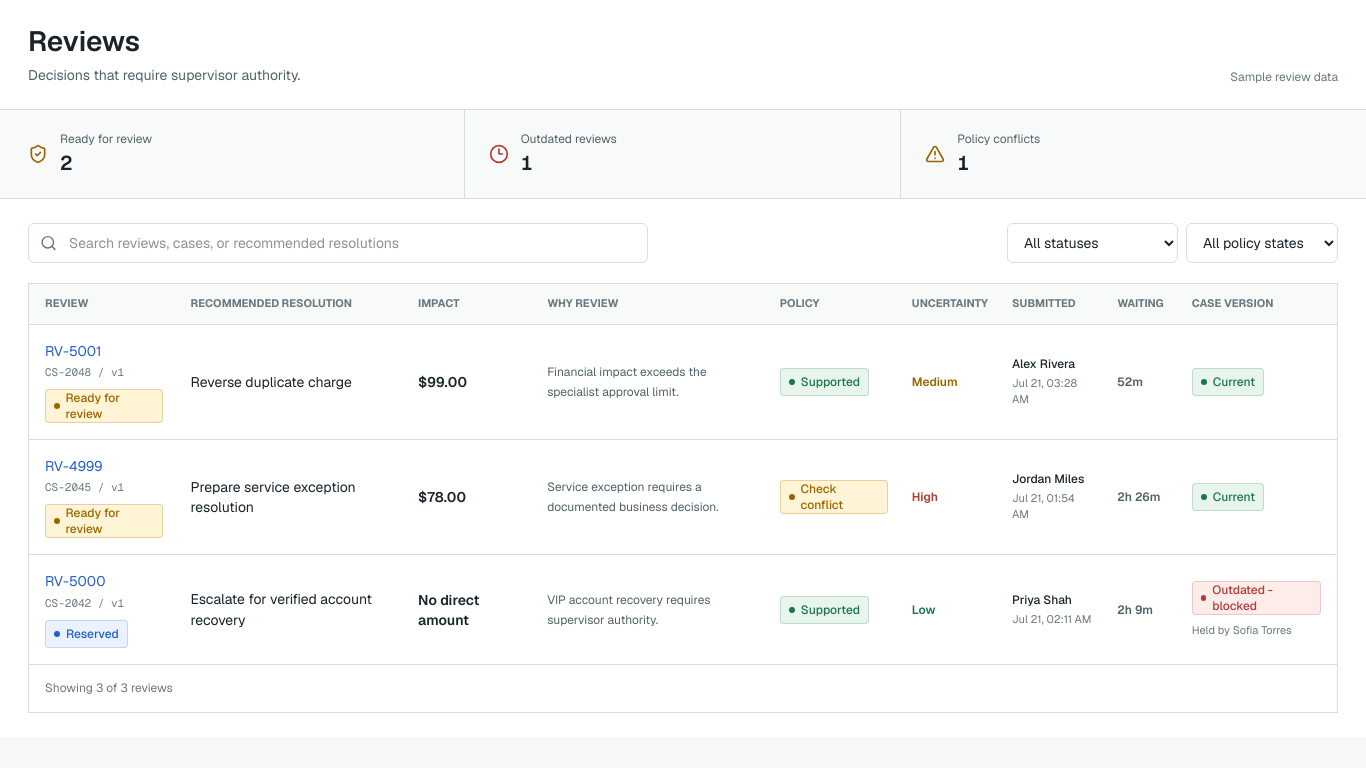
Scenario: ReviewQueue › supports review-specific search and policy filtering
The width and height of the screenshot is (1366, 768).
Select "Possible conflict" in the 2nd dropdown named "Filter policy state" at (1262, 243), box top-left (1186, 223), bottom-right (1338, 263)
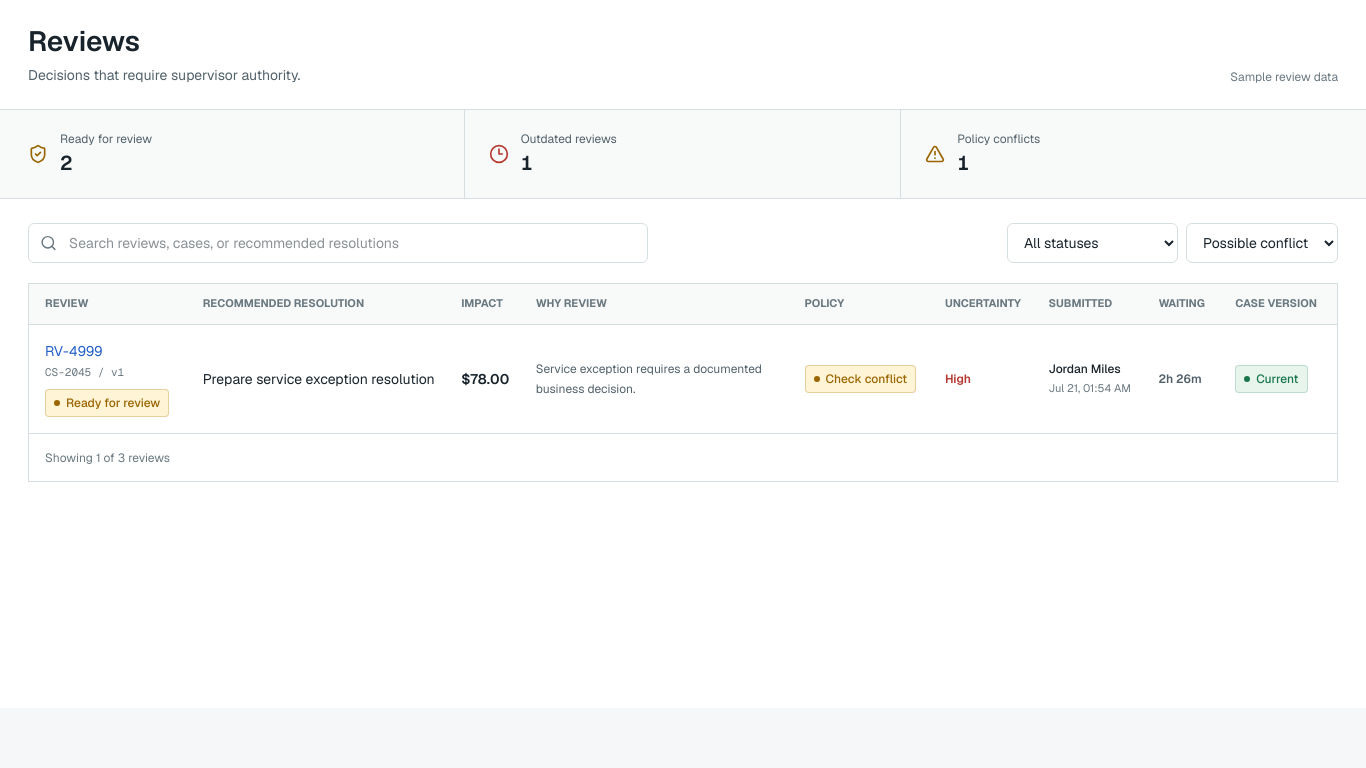
expect the link "Prepare service exception resolution" is shown: met, box top-left (203, 369), bottom-right (437, 389)
expect the link "Reverse duplicate charge" is gone: met
